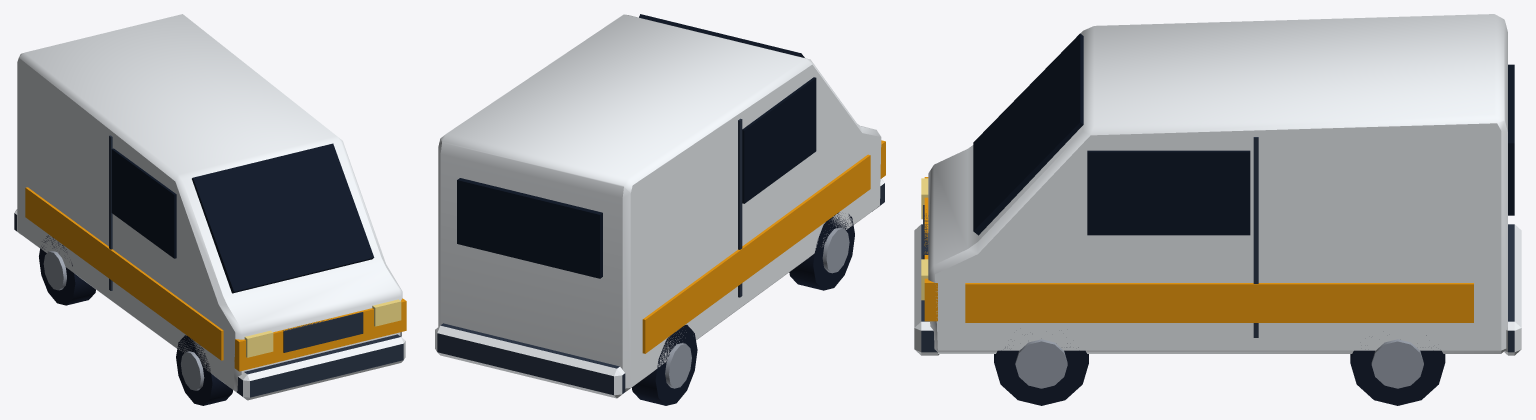
Rendered from kei_van.glb.
The picture shows the model from 3 angles, left to right: view 1: azimuth 30°, elevation 25°; view 2: azimuth 150°, elevation 25°; view 3: azimuth 270°, elevation 25°; orthographic projection. The views are drawn at different scales.
Visible parts, largest first — view 1: kei_van; view 2: kei_van; view 3: kei_van.
Boxes of the visible parts, x1,y1,x2,y2 form: kei_van: (14,14,406,405); kei_van: (435,14,885,405); kei_van: (914,14,1521,405).
Size of the model in its own units: 1.54 by 1.88 by 3.58.
